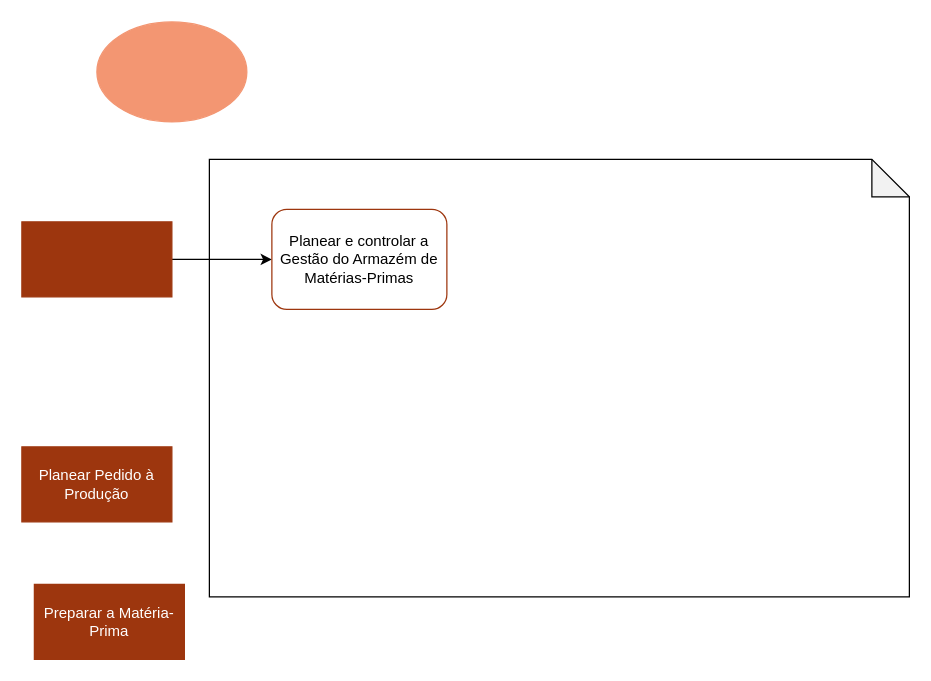
This 931x681 diagram has some shape labels left out. The centre of each missing label's shape, as x and y in pixels:
"Comprar Matérias-Primas" belongs at (171,71).
"Controlar e Planear a Produção" belongs at (96,259).
